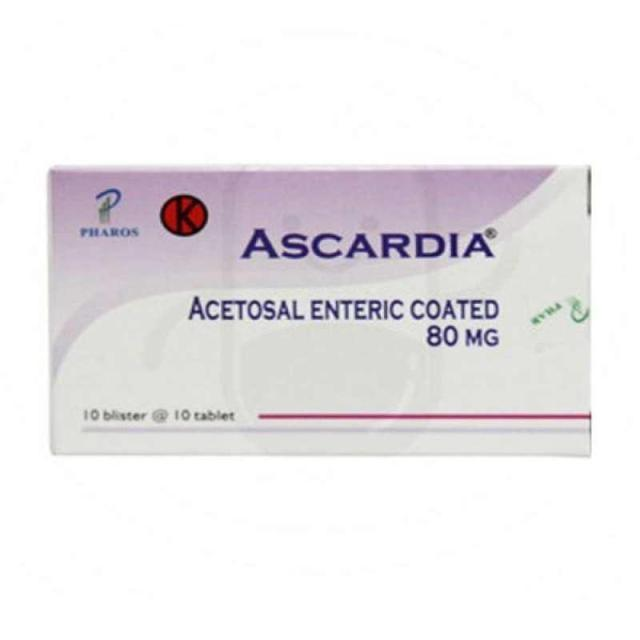drug-name: (240, 223, 503, 265)
